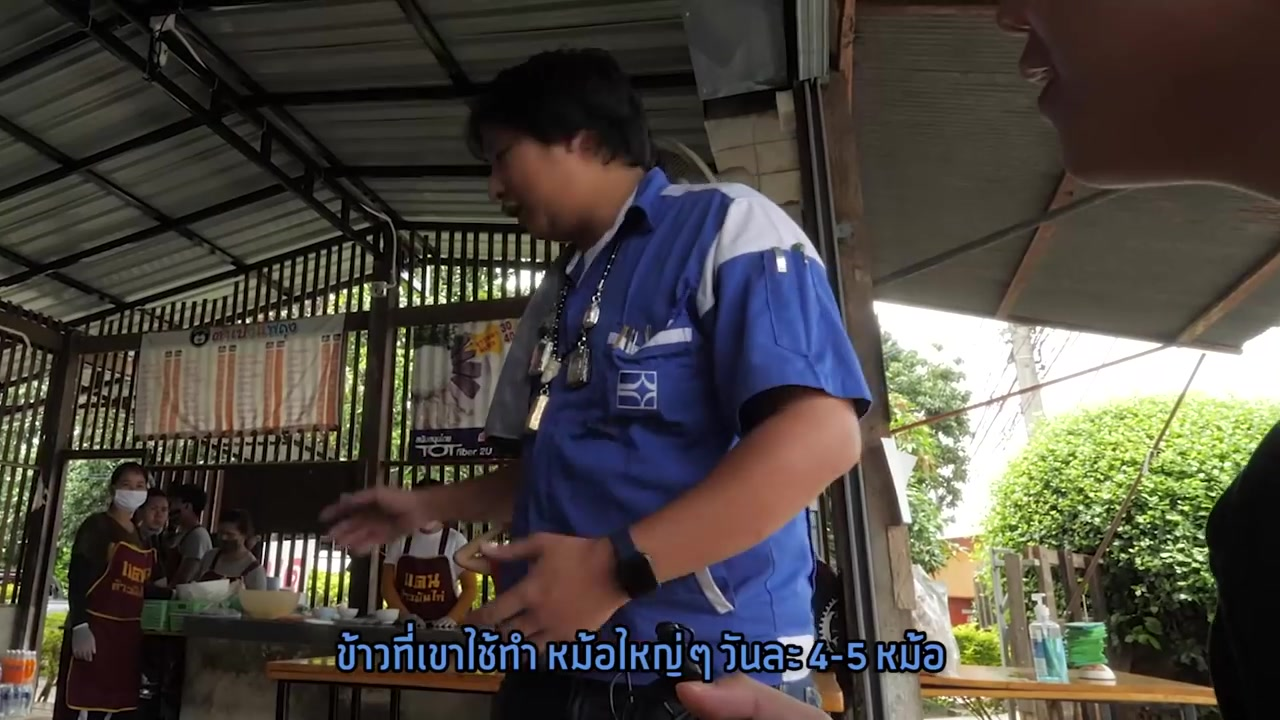text-label: (330, 620, 952, 686)
